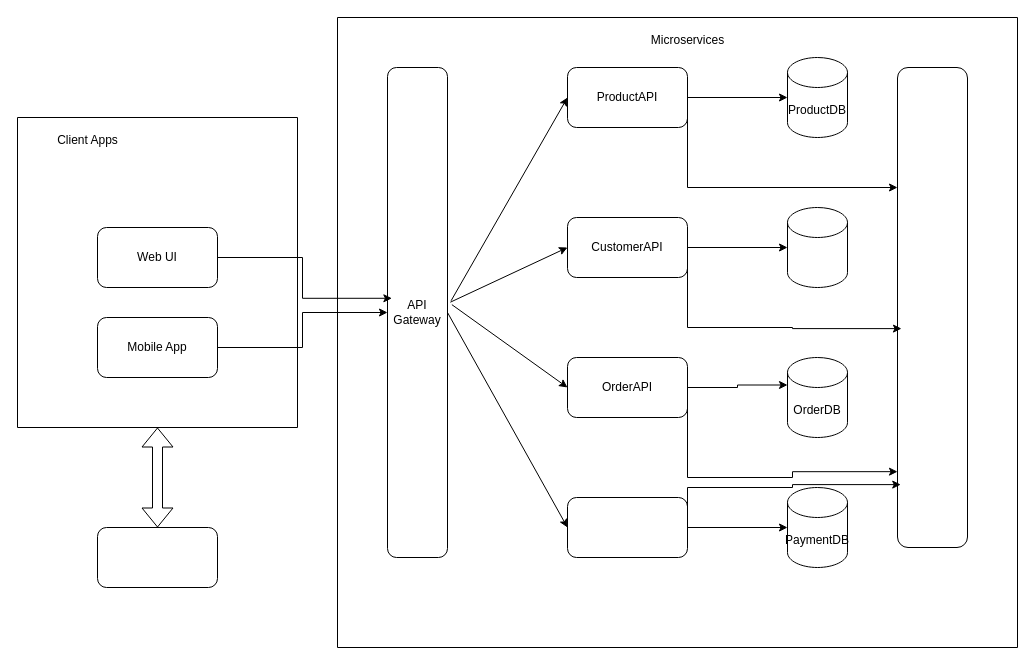
Image size: 1035x665. Some labels were removed from this diagram. The shapes that lost their labels are listed below. From the top down, each one's box as (x1, y1, x2, y2) in pixels, then its label:
(786, 206, 848, 288): CustomerDB
(896, 66, 968, 548): Event Bus (Kafka, Azure Service Bus, RabbitMQ)
(566, 496, 688, 558): PaymentAPI
(96, 526, 218, 588): Auth provider (AAD, Okta etc)
